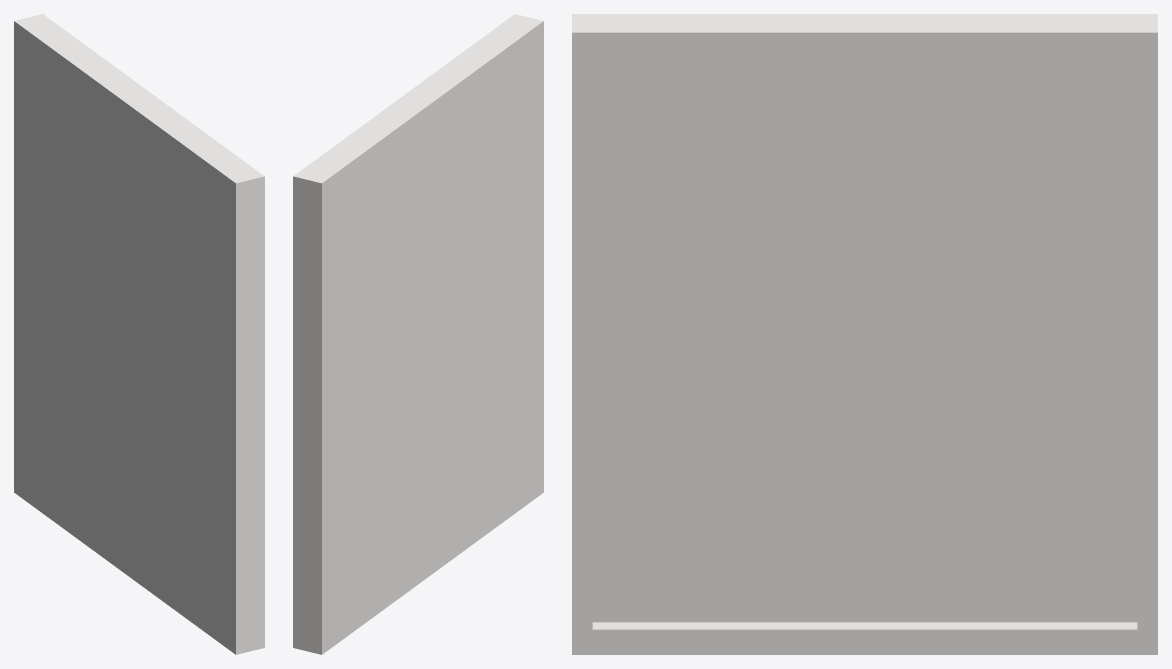
File: Picture.001.fbx
3 views of the same model, side by side, from view 1: azimuth 30°, elevation 25°; view 2: azimuth 150°, elevation 25°; view 3: azimuth 270°, elevation 25° (orthographic). The views are drawn at different scales.
Visible parts, largest first — view 1: Picture.001; view 2: Picture.001; view 3: Picture.001.
Boxes of the visible parts, <box> form: Picture.001: <box>14,14,264,654</box>; Picture.001: <box>293,14,543,654</box>; Picture.001: <box>572,14,1157,654</box>.
Bounding box in the file's own units: 2.93 × 45.74 × 39.01.
